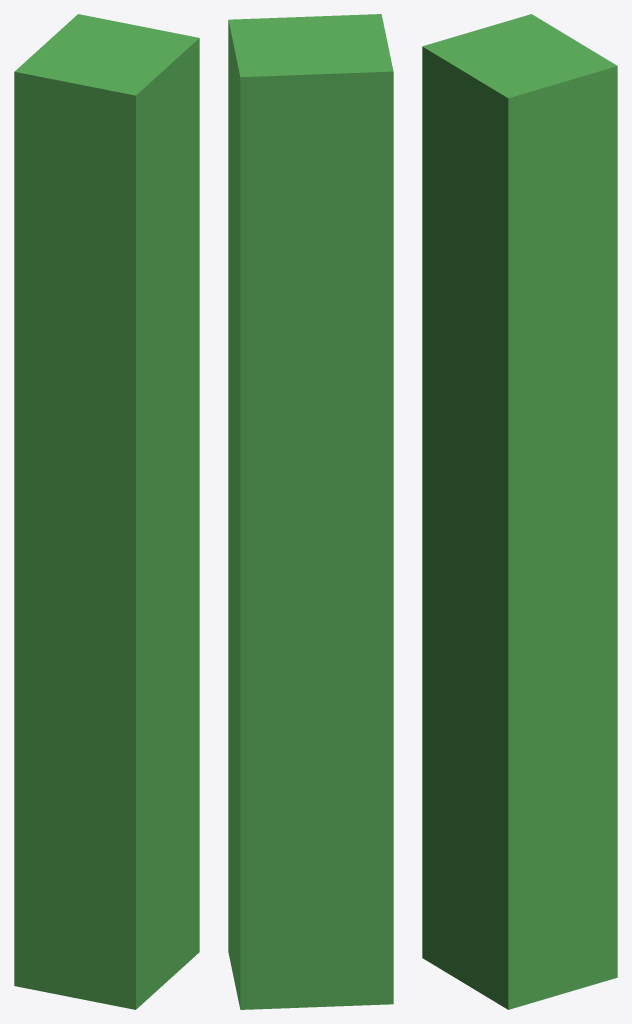
The model's file is Plant_B_05.FBX.
The picture shows the model from 3 angles, left to right: view 1: azimuth 30°, elevation 25°; view 2: azimuth 150°, elevation 25°; view 3: azimuth 270°, elevation 25°; orthographic projection. The views are drawn at different scales.
Parts seen in each view (by area): view 1: Plant_B_05; view 2: Plant_B_05; view 3: Plant_B_05.
Boxes of the visible parts, x1=… form: Plant_B_05: x1=14, y1=14, x2=199, y2=1009; Plant_B_05: x1=228, y1=14, x2=393, y2=1009; Plant_B_05: x1=422, y1=14, x2=617, y2=1009.
Bounding box in the file's own units: 0.1126 × 0.5671 × 0.1103.
